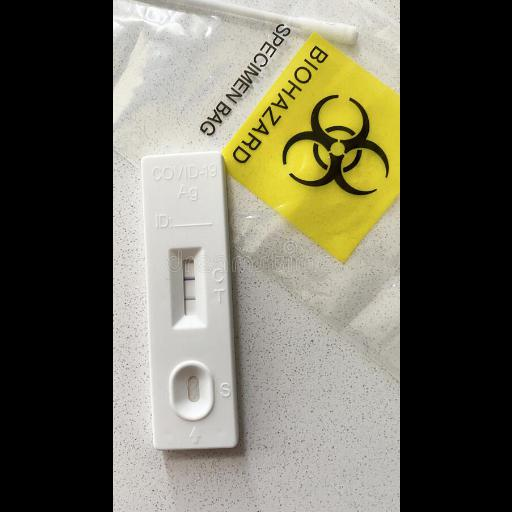Pos: (137, 154, 237, 446)
